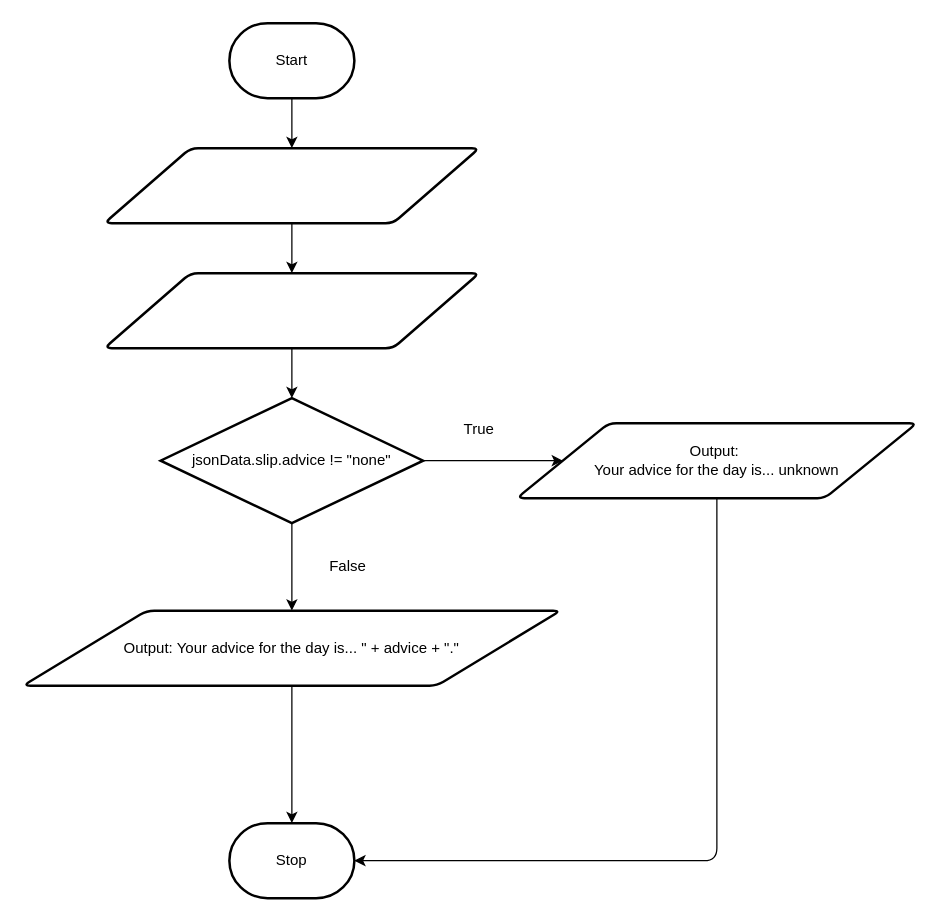
This 939x920 diagram has some shape labels left out. The box of each missing label's shape, as (x1, y1, x2, y2) in pixels:
Get advice from URL: (102, 146, 480, 224)
Output advice: (102, 271, 480, 349)
